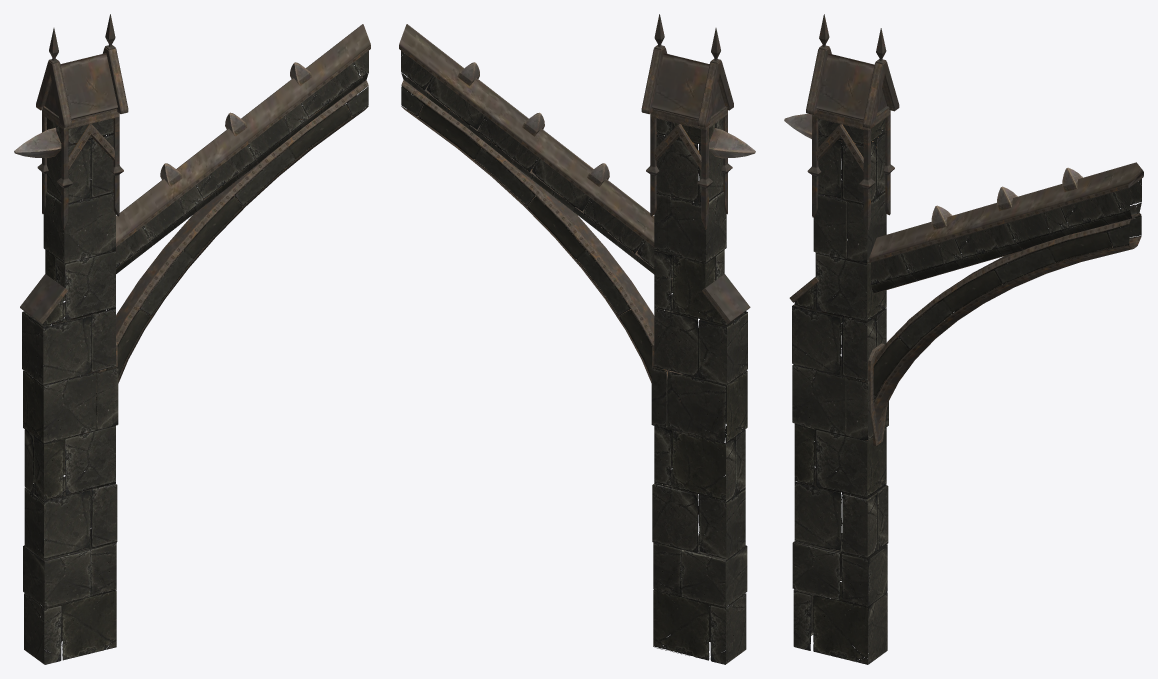
3 renders of one model, left to right at view 1: azimuth 30°, elevation 25°; view 2: azimuth 150°, elevation 25°; view 3: azimuth 330°, elevation 25°, orthographic.
Visible parts, largest first — view 1: SM_Greathall_Flying_Buttress_02_LOD0; view 2: SM_Greathall_Flying_Buttress_02_LOD0; view 3: SM_Greathall_Flying_Buttress_02_LOD0.
Part boxes in pixels (<box>): SM_Greathall_Flying_Buttress_02_LOD0: <box>14,14,370,664</box>; SM_Greathall_Flying_Buttress_02_LOD0: <box>399,14,755,664</box>; SM_Greathall_Flying_Buttress_02_LOD0: <box>784,14,1143,664</box>.
Bounding box in the file's own units: 8.35 × 14.32 × 1.19.
3 materials, 3 textured.
